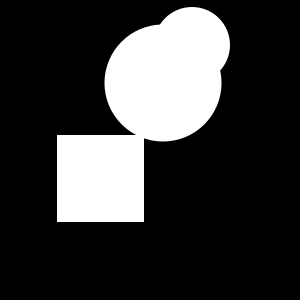circle: (57, 135, 144, 222)
rectangle: (104, 24, 222, 142), (154, 7, 230, 83), (167, 77, 185, 95)
